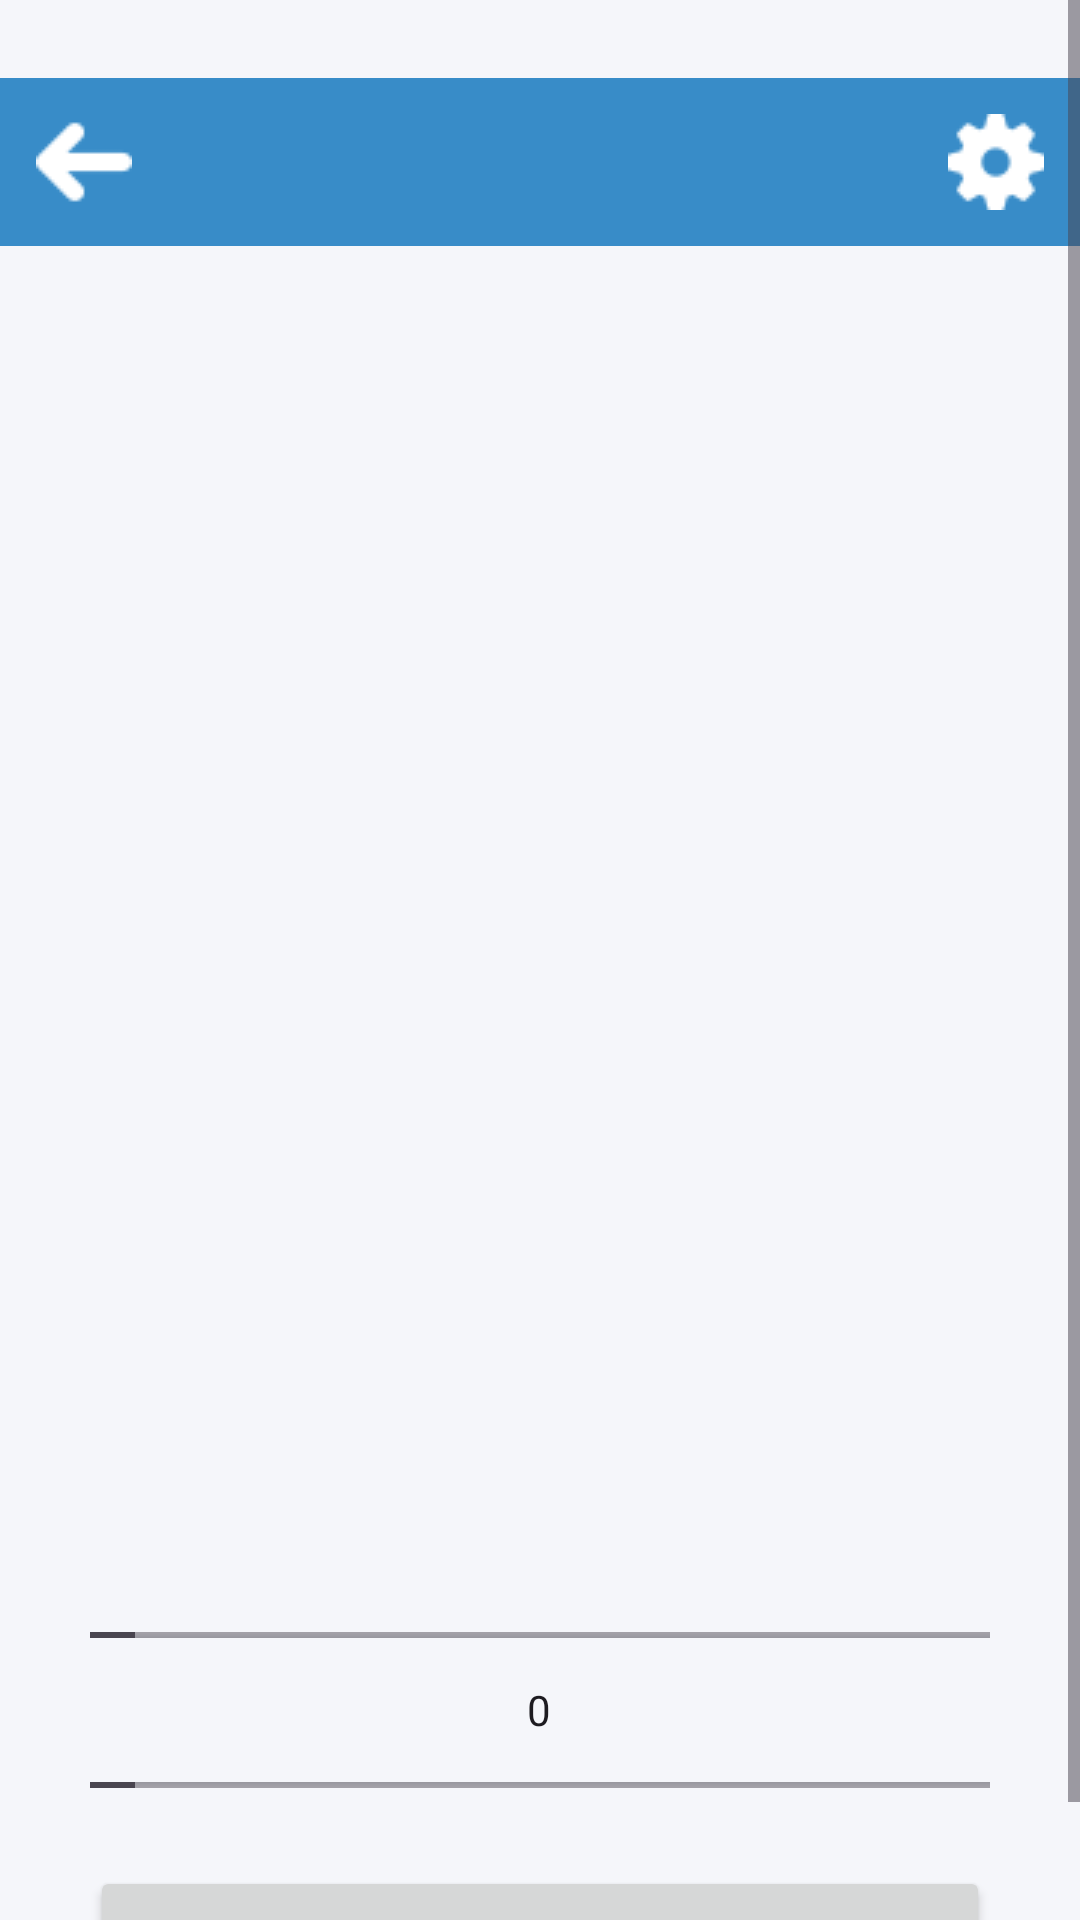

Point at icon controls on the screen. Image size 1080 x 1920, points as (x,y).
Volver: (84,162)
